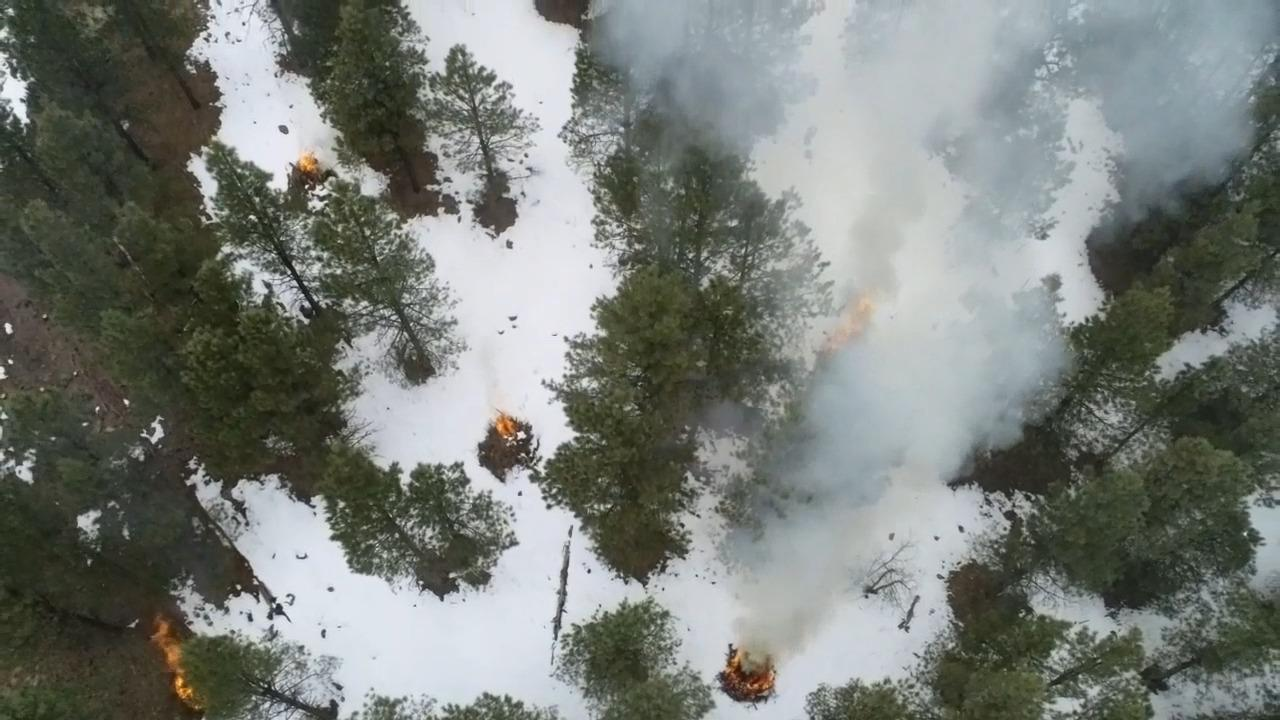fire: (805, 270, 893, 370), (711, 621, 790, 704), (136, 612, 201, 711), (486, 400, 523, 450), (295, 147, 324, 171)
smoke: (587, 1, 1251, 489)
